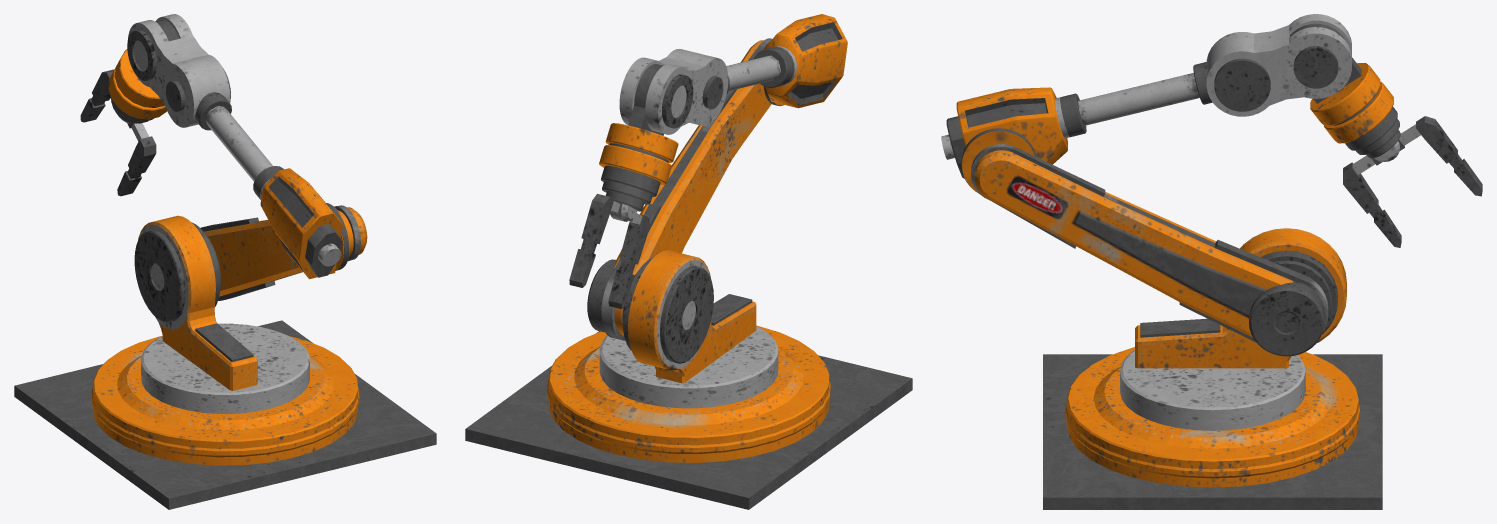
File: brazo.FBX
3 views of the same model, side by side, from view 1: azimuth 30°, elevation 25°; view 2: azimuth 150°, elevation 25°; view 3: azimuth 270°, elevation 25° (orthographic). The views are drawn at different scales.
Visible parts, largest first — view 1: Base, Object005, Cylinder001, Cylinder002, Cylinder016, Cylinder005, Box001, Cylinder003, Cylinder013, Cylinder018, Box007, Arm02 (+3 smaller); view 2: Base, Object005, Cylinder005, Cylinder001, Cylinder002, Cylinder016, Box001, Cylinder003, Box004, Box007, Cylinder020, Cylinder018 (+6 smaller); view 3: Cylinder005, Base, Object005, Cylinder016, Cylinder001, Cylinder002, Box001, Cylinder006, Cylinder013, Cylinder018, Cylinder003, Box004 (+6 smaller).
Part boxes in pixels (x1=…): Base: x1=91, y1=336, x2=359, y2=465; Object005: x1=14, y1=320, x2=436, y2=509; Cylinder001: x1=141, y1=323, x2=309, y2=413; Cylinder002: x1=138, y1=215, x2=257, y2=390; Cylinder016: x1=127, y1=14, x2=230, y2=127; Cylinder005: x1=200, y1=205, x2=367, y2=300; Box001: x1=260, y1=168, x2=342, y2=279; Cylinder003: x1=134, y1=222, x2=220, y2=322; Cylinder013: x1=205, y1=106, x2=272, y2=181; Cylinder018: x1=114, y1=49, x2=164, y2=107; Box007: x1=117, y1=136, x2=156, y2=196; Arm02: x1=305, y1=223, x2=341, y2=277; Base: x1=547, y1=325, x2=830, y2=462; Object005: x1=465, y1=331, x2=912, y2=509; Cylinder005: x1=601, y1=38, x2=771, y2=340; Cylinder001: x1=599, y1=326, x2=778, y2=408; Cylinder002: x1=628, y1=250, x2=756, y2=383; Cylinder016: x1=619, y1=49, x2=728, y2=134; Box001: x1=764, y1=14, x2=847, y2=108; Cylinder003: x1=622, y1=257, x2=713, y2=363; Box004: x1=569, y1=193, x2=614, y2=287; Box007: x1=608, y1=214, x2=649, y2=308; Cylinder020: x1=599, y1=145, x2=671, y2=184; Cylinder018: x1=605, y1=123, x2=678, y2=162; Cylinder005: x1=971, y1=144, x2=1328, y2=342; Base: x1=1065, y1=347, x2=1359, y2=487; Object005: x1=1043, y1=354, x2=1382, y2=509; Cylinder016: x1=1206, y1=14, x2=1351, y2=116; Cylinder001: x1=1120, y1=350, x2=1305, y2=430; Cylinder002: x1=1135, y1=228, x2=1346, y2=368; Box001: x1=956, y1=87, x2=1067, y2=164; Cylinder006: x1=1249, y1=281, x2=1324, y2=356; Cylinder013: x1=1078, y1=73, x2=1199, y2=125; Cylinder018: x1=1310, y1=63, x2=1380, y2=125; Cylinder003: x1=1261, y1=250, x2=1337, y2=334; Box004: x1=1416, y1=116, x2=1482, y2=196.
Bounding box in the file's own units: 1000 × 1319 × 1595.
